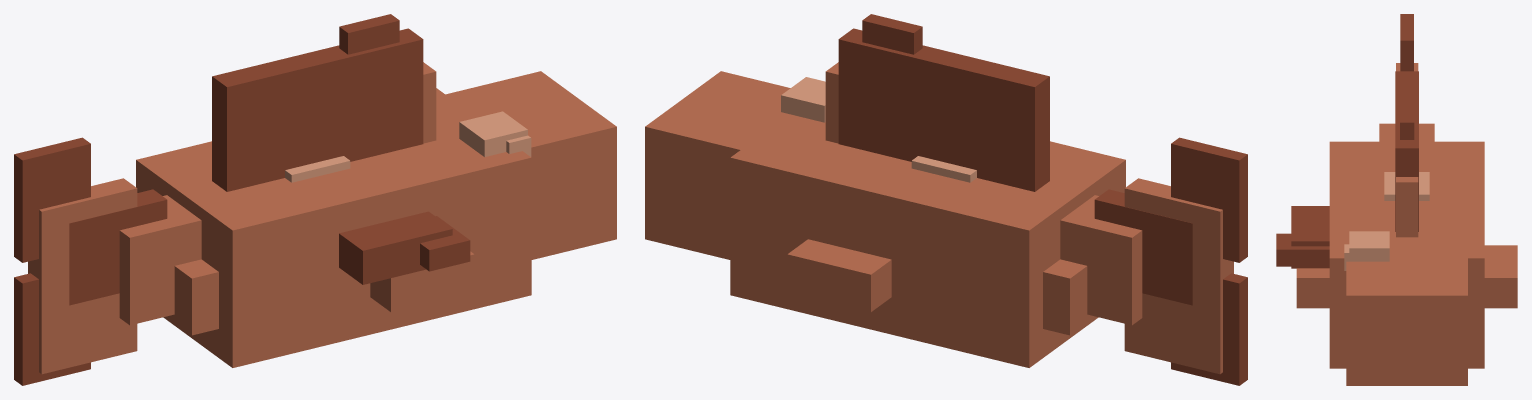
File: fish_kiln_shad.glb
The picture shows the model from 3 angles, left to right: view 1: azimuth 30°, elevation 25°; view 2: azimuth 150°, elevation 25°; view 3: azimuth 270°, elevation 25°; orthographic projection. The views are drawn at different scales.
Visible parts, largest first — view 1: FishArt_body, FishArt_dorsal, FishArt_tail, FishArt_pectoral, FishArt_eye, FishArt_specialty; view 2: FishArt_body, FishArt_dorsal, FishArt_tail, FishArt_eye, FishArt_specialty; view 3: FishArt_body, FishArt_pectoral, FishArt_dorsal, FishArt_eye, FishArt_tail, FishArt_specialty.
Part boxes in pixels (<box>): FishArt_body: <box>28,62,616,374</box>; FishArt_dorsal: <box>212,14,423,191</box>; FishArt_tail: <box>14,137,167,385</box>; FishArt_pectoral: <box>339,211,470,284</box>; FishArt_eye: <box>459,111,531,156</box>; FishArt_specialty: <box>285,156,350,182</box>; FishArt_body: <box>645,62,1233,374</box>; FishArt_dorsal: <box>838,14,1049,191</box>; FishArt_tail: <box>1094,137,1247,385</box>; FishArt_eye: <box>781,77,825,122</box>; FishArt_specialty: <box>911,156,976,182</box>; FishArt_body: <box>1296,63,1517,385</box>; FishArt_pectoral: <box>1276,206,1329,268</box>; FishArt_dorsal: <box>1395,71,1418,231</box>; FishArt_eye: <box>1344,231,1389,270</box>; FishArt_tail: <box>1400,14,1413,71</box>; FishArt_specialty: <box>1384,172,1429,200</box>.
Size of the model in its own units: 0.3091 by 0.1442 by 0.1439.
